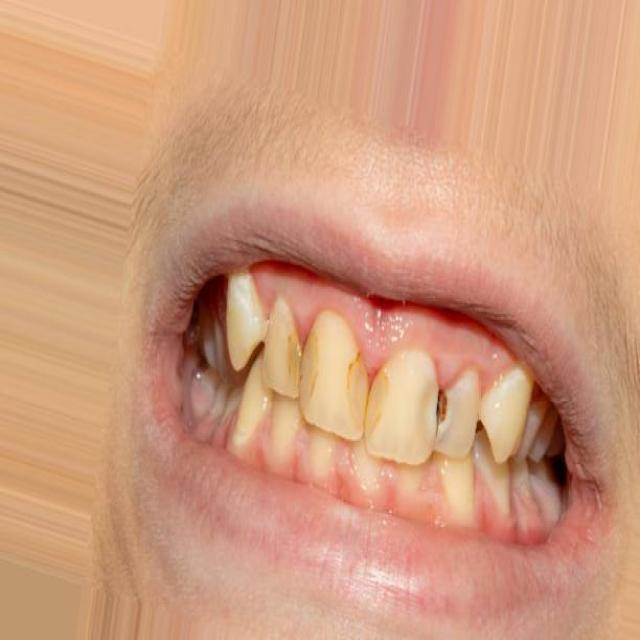caries: (347, 340, 392, 448), (284, 321, 322, 415), (419, 374, 456, 454)
